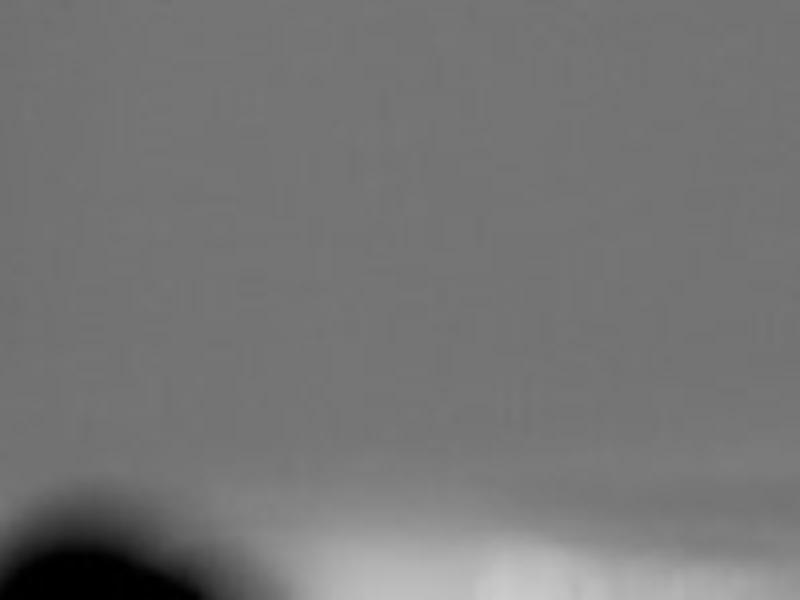defect: (1, 535, 236, 600)
